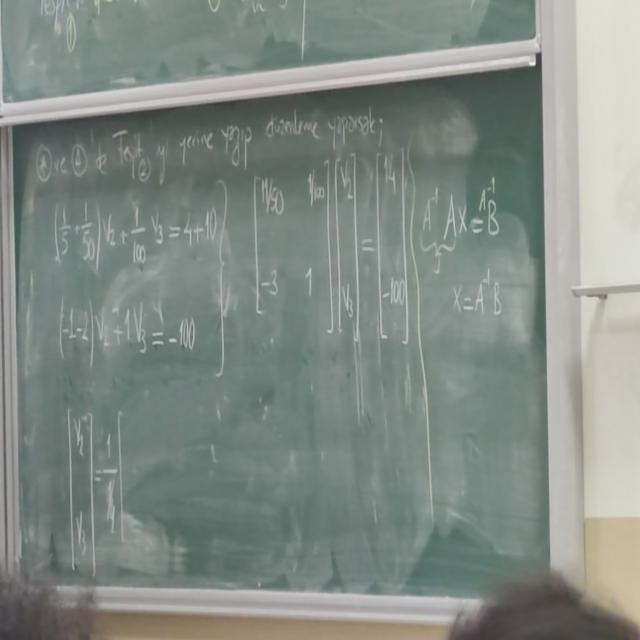math: (247, 142, 417, 346), (47, 196, 230, 382), (414, 164, 513, 334), (54, 394, 131, 572)
